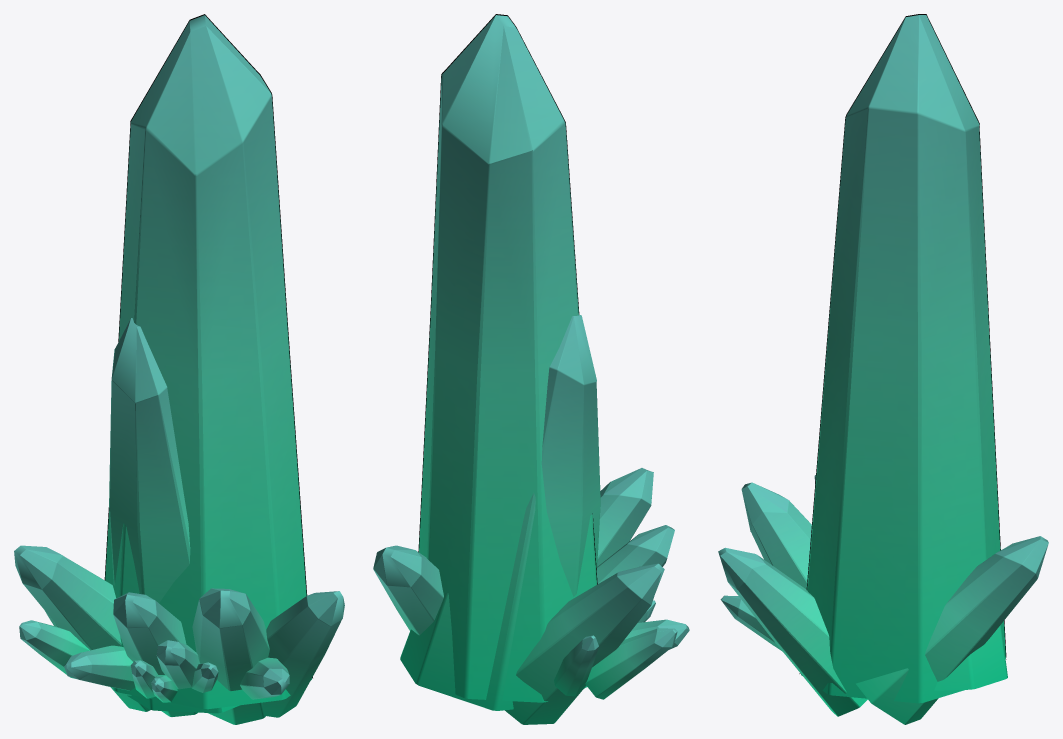
File: Rooms_Paradise_Crystal_Regular_Art.fbx
3 renders of one model, left to right at view 1: azimuth 30°, elevation 25°; view 2: azimuth 150°, elevation 25°; view 3: azimuth 270°, elevation 25°, orthographic.
Visible parts, largest first — view 1: Rooms_Paradise_Crystal_Regular_Art, Rooms_Paradise_Crystal2.001, Rooms_Paradise_Crystal3.001, Rooms_Paradise_Crystal4.002, Rooms_Paradise_Crystal5.002, Rooms_Paradise_Crystal6.002, Rooms_Paradise_Crystal8.002, Rooms_Paradise_Crystal14.001, Rooms_Paradise_Crystal9.002, Rooms_Paradise_Crystal7.002, Rooms_Paradise_Crystal_Outline.001, Rooms_Paradise_Crystal11.002 (+2 smaller); view 2: Rooms_Paradise_Crystal_Regular_Art, Rooms_Paradise_Crystal2.001, Rooms_Paradise_Crystal3.001, Rooms_Paradise_Crystal15.001, Rooms_Paradise_Crystal4.002, Rooms_Paradise_Crystal14.001, Rooms_Paradise_Crystal6.002, Rooms_Paradise_Crystal12.001, Rooms_Paradise_Crystal_Outline.001, Rooms_Paradise_Crystal8.002; view 3: Rooms_Paradise_Crystal_Regular_Art, Rooms_Paradise_Crystal15.001, Rooms_Paradise_Crystal5.002, Rooms_Paradise_Crystal4.002, Rooms_Paradise_Crystal2.001, Rooms_Paradise_Crystal_Outline.001, Rooms_Paradise_Crystal9.002.
Boxes of the visible parts, x1,y1,x2,y2 form: Rooms_Paradise_Crystal_Regular_Art: [105, 15, 312, 709]; Rooms_Paradise_Crystal2.001: [109, 318, 239, 713]; Rooms_Paradise_Crystal3.001: [14, 545, 150, 711]; Rooms_Paradise_Crystal4.002: [192, 588, 269, 724]; Rooms_Paradise_Crystal5.002: [263, 591, 344, 717]; Rooms_Paradise_Crystal6.002: [113, 592, 197, 716]; Rooms_Paradise_Crystal8.002: [64, 645, 135, 690]; Rooms_Paradise_Crystal14.001: [19, 620, 89, 678]; Rooms_Paradise_Crystal9.002: [240, 657, 289, 699]; Rooms_Paradise_Crystal7.002: [156, 640, 200, 689]; Rooms_Paradise_Crystal_Outline.001: [104, 14, 312, 678]; Rooms_Paradise_Crystal11.002: [130, 660, 157, 698]; Rooms_Paradise_Crystal_Regular_Art: [419, 15, 596, 702]; Rooms_Paradise_Crystal2.001: [400, 315, 600, 710]; Rooms_Paradise_Crystal3.001: [505, 563, 664, 724]; Rooms_Paradise_Crystal15.001: [373, 545, 443, 635]; Rooms_Paradise_Crystal4.002: [597, 468, 653, 566]; Rooms_Paradise_Crystal14.001: [585, 628, 677, 699]; Rooms_Paradise_Crystal6.002: [597, 525, 674, 583]; Rooms_Paradise_Crystal12.001: [554, 635, 598, 696]; Rooms_Paradise_Crystal_Outline.001: [418, 14, 597, 584]; Rooms_Paradise_Crystal8.002: [624, 619, 689, 649]; Rooms_Paradise_Crystal_Regular_Art: [801, 15, 1005, 703]; Rooms_Paradise_Crystal15.001: [856, 536, 1048, 724]; Rooms_Paradise_Crystal5.002: [718, 547, 867, 716]; Rooms_Paradise_Crystal4.002: [741, 482, 811, 589]; Rooms_Paradise_Crystal2.001: [934, 625, 1007, 690]; Rooms_Paradise_Crystal_Outline.001: [799, 14, 1006, 673]; Rooms_Paradise_Crystal9.002: [720, 595, 782, 651].
Size of the model in its own units: 623 by 1547 by 675.
